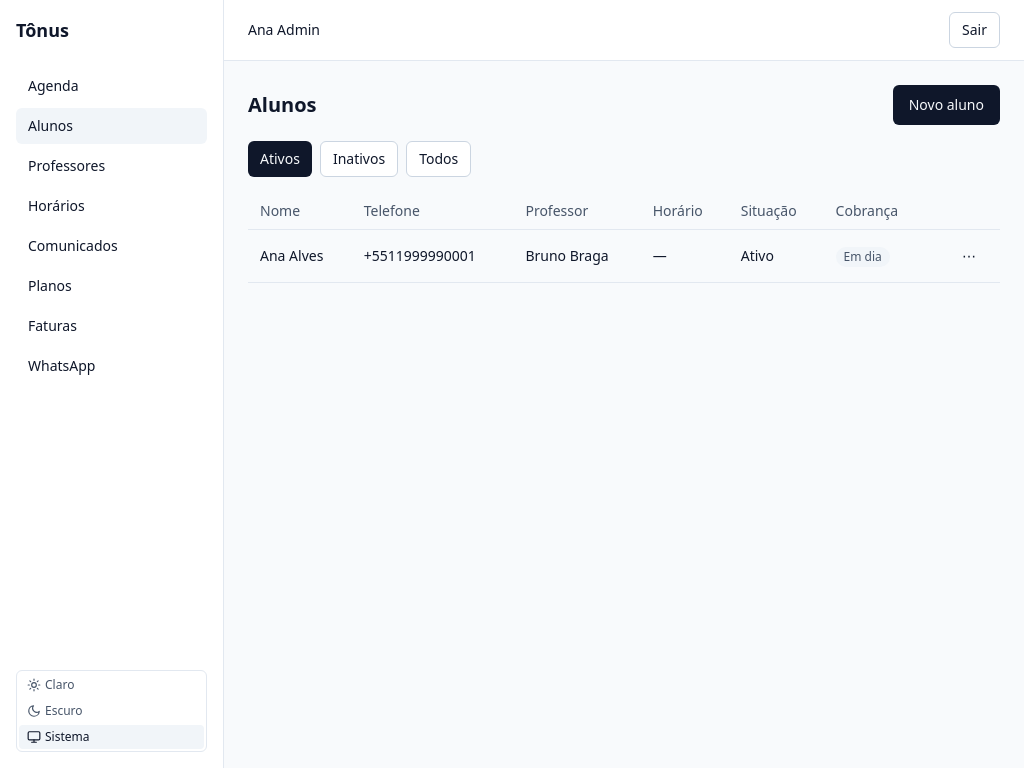
Test: planos do aluno › não oferece plano inativo
Click the button named "Ações de Ana Alves" at (969, 256), box [950,238,988,274]
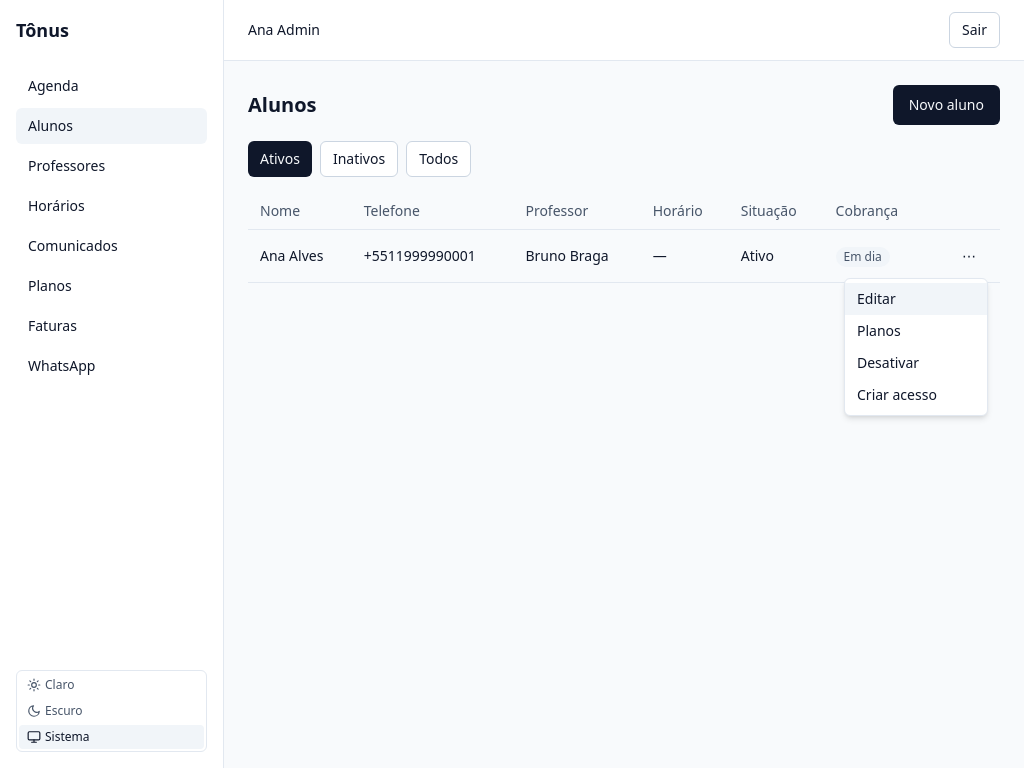
Click the menu item "Planos" at (916, 331), box [845,315,987,347]
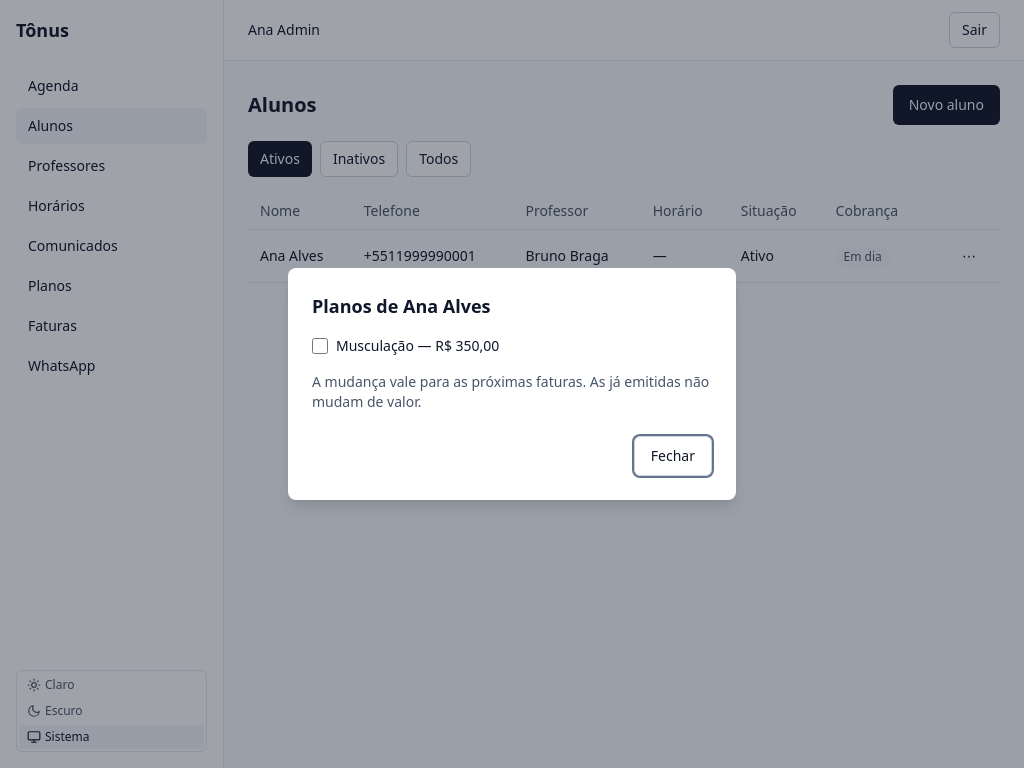
Expected: the checkbox labelled "Musculação — R$ 350,00" is shown, [312,338,328,354]
